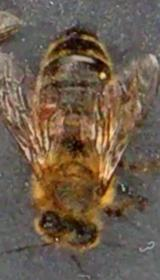varroa_mite: (34, 97, 62, 122)
